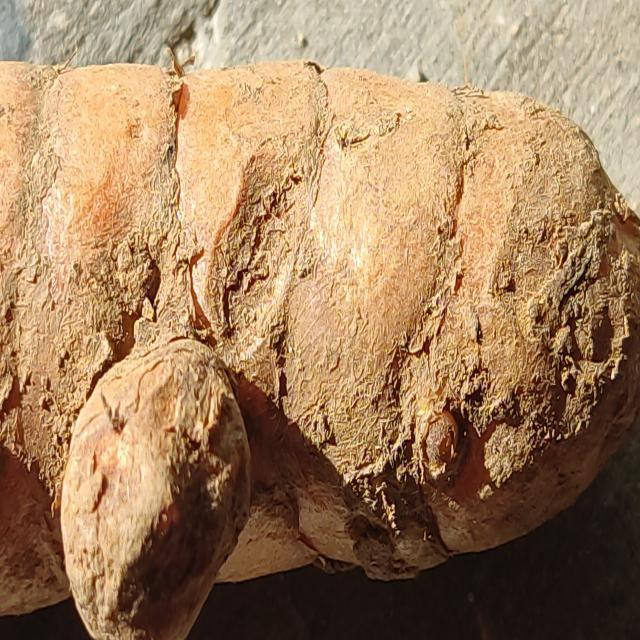ginger: (1, 38, 640, 582)
